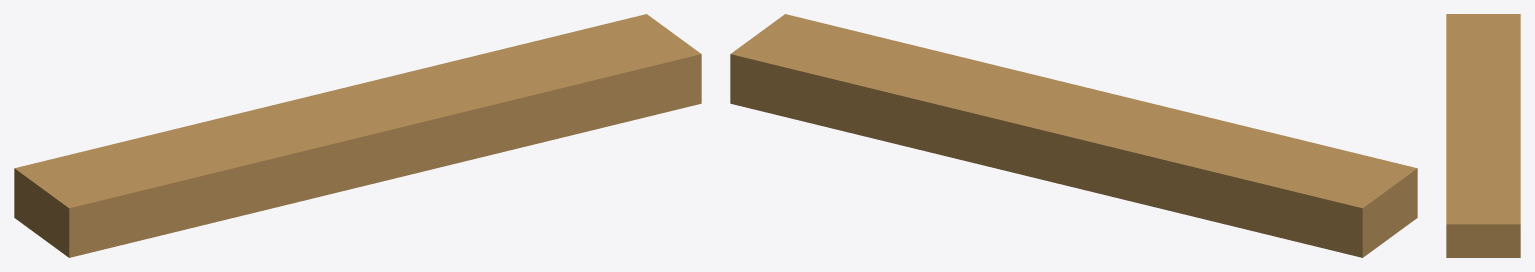
3 views of the same model, side by side, from view 1: azimuth 30°, elevation 25°; view 2: azimuth 150°, elevation 25°; view 3: azimuth 270°, elevation 25° (orthographic). The views are drawn at different scales.
Parts seen in each view (by area): view 1: __delivery_mesh_5186; view 2: __delivery_mesh_5186; view 3: __delivery_mesh_5186.
Part boxes in pixels (left/top/right/bottom): __delivery_mesh_5186: left=14, top=14, right=701, bottom=257; __delivery_mesh_5186: left=730, top=14, right=1417, bottom=257; __delivery_mesh_5186: left=1446, top=14, right=1520, bottom=257.
Size of the model in its own units: 0.6 by 0.045 by 0.09.
